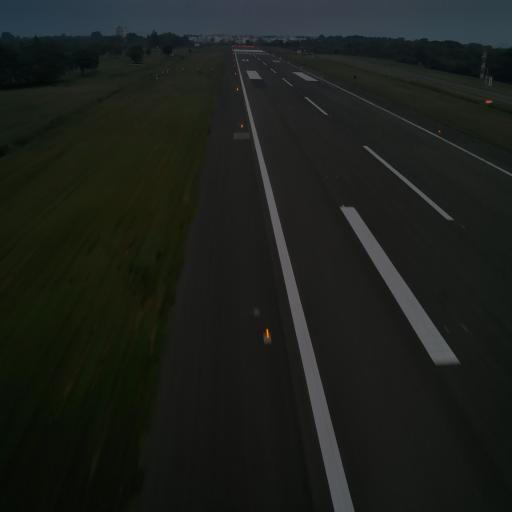off: (441, 320, 451, 336), (461, 320, 469, 333), (460, 220, 466, 232), (453, 176, 457, 183), (470, 176, 474, 183), (345, 172, 348, 180), (326, 173, 329, 180), (462, 176, 465, 182), (336, 174, 339, 179)
on: (262, 321, 272, 348), (240, 121, 244, 129), (438, 128, 441, 134)
